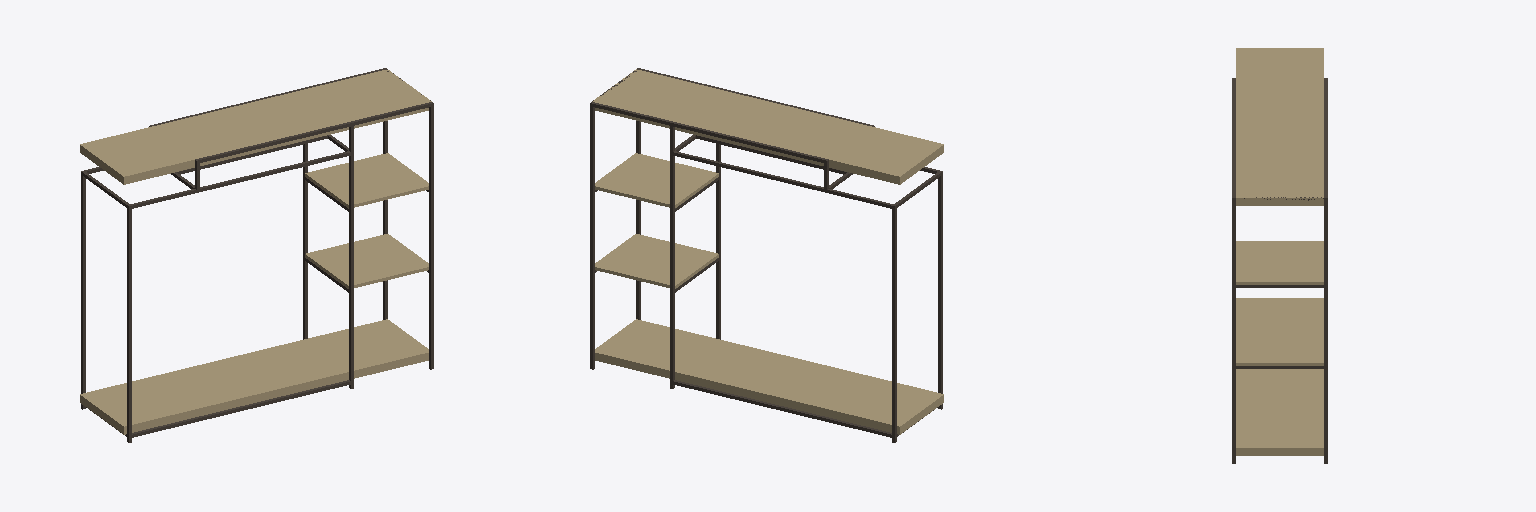
File: fixture1.obj
3 renders of one model, left to right at view 1: azimuth 30°, elevation 25°; view 2: azimuth 150°, elevation 25°; view 3: azimuth 270°, elevation 25°, orthographic.
Size of the model in its own units: 200 by 165 by 54.